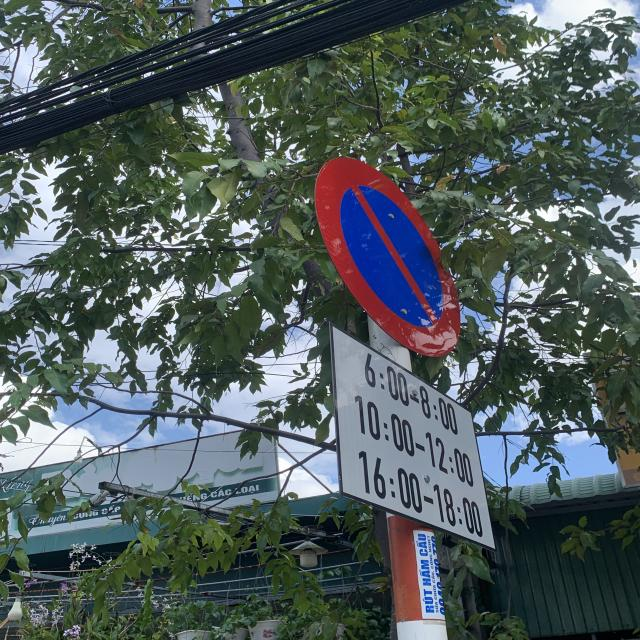Cam_Dau_Xe: (315, 158, 464, 359)
